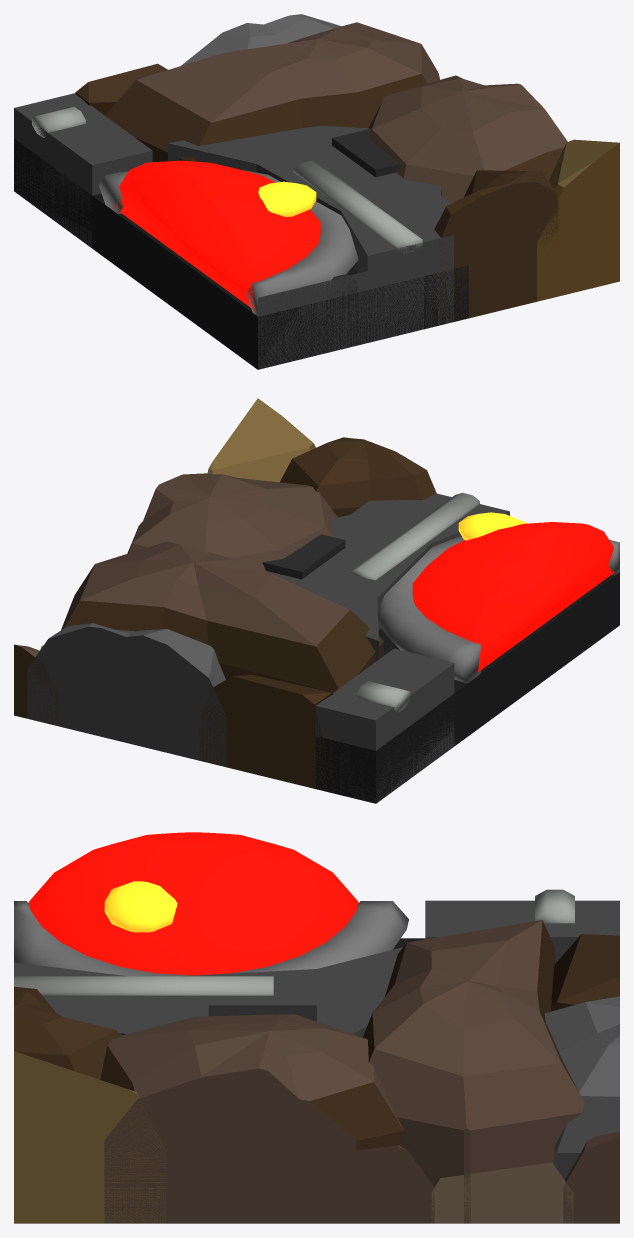
The model's file is newshr-199.glb.
3 views of the same model, one above another, from view 1: azimuth 30°, elevation 25°; view 2: azimuth 150°, elevation 25°; view 3: azimuth 270°, elevation 25° (orthographic). The views are drawn at different scales.
Visible parts, largest first — view 1: newshr-199; view 2: newshr-199; view 3: newshr-199.
Boxes of the visible parts, box(x1,y1,x2,y2) form: newshr-199: box(14, 14, 619, 369); newshr-199: box(14, 398, 619, 803); newshr-199: box(14, 832, 619, 1223).
Bounding box in the file's own units: 2 × 0.733 × 2.33.
